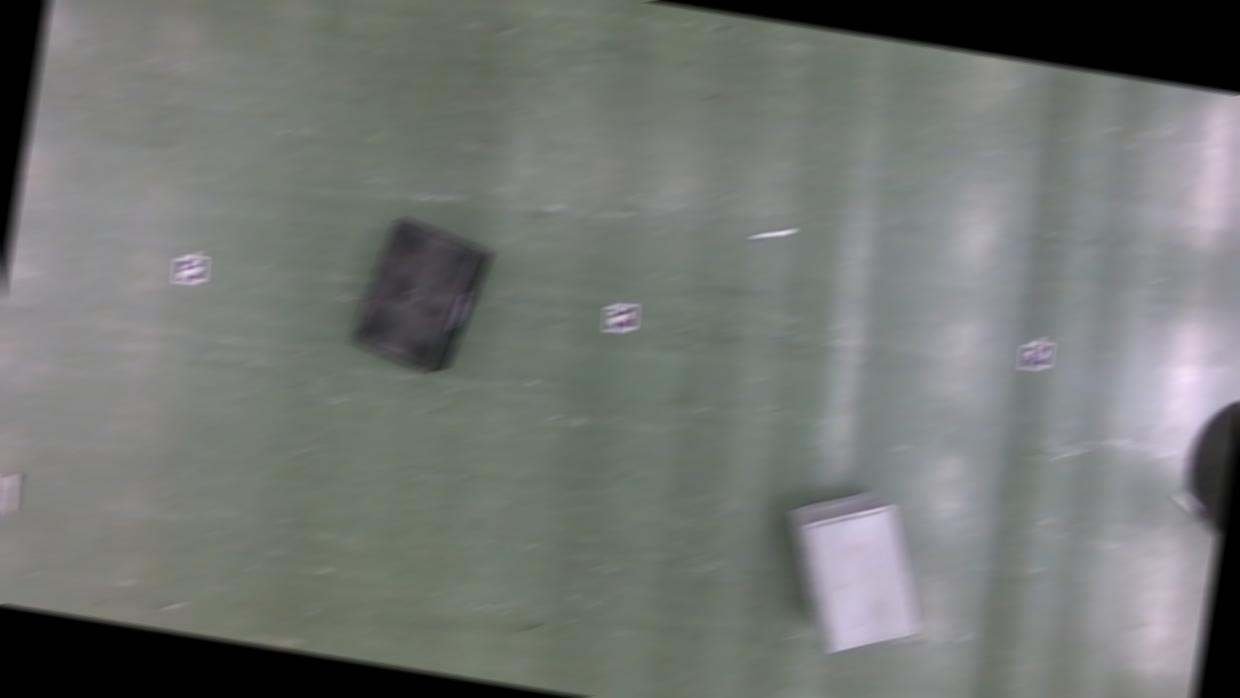probes: (1170, 489, 1204, 515), (750, 223, 792, 243), (1, 471, 19, 514)
rako: (768, 475, 940, 662), (346, 210, 494, 376)
